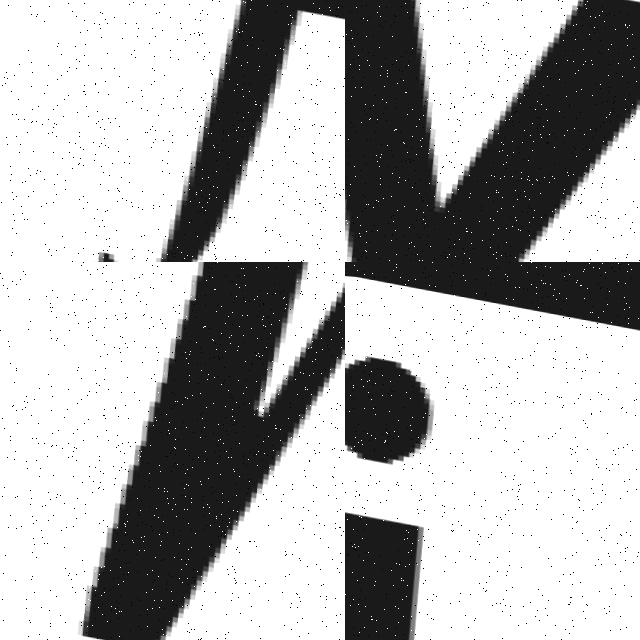F: (46, 0, 345, 262)
I: (345, 331, 494, 640)
V: (50, 262, 345, 640)
Y: (345, 0, 640, 262)
